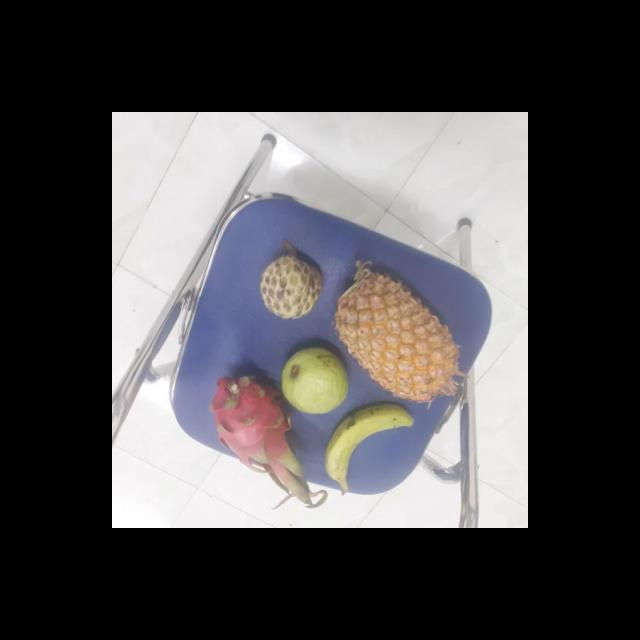Sakya fruit: (261, 254, 328, 319)
banana: (326, 401, 418, 490)
guava: (281, 345, 351, 415)
pineapple: (336, 262, 463, 404)
pitaya: (214, 374, 312, 479)
